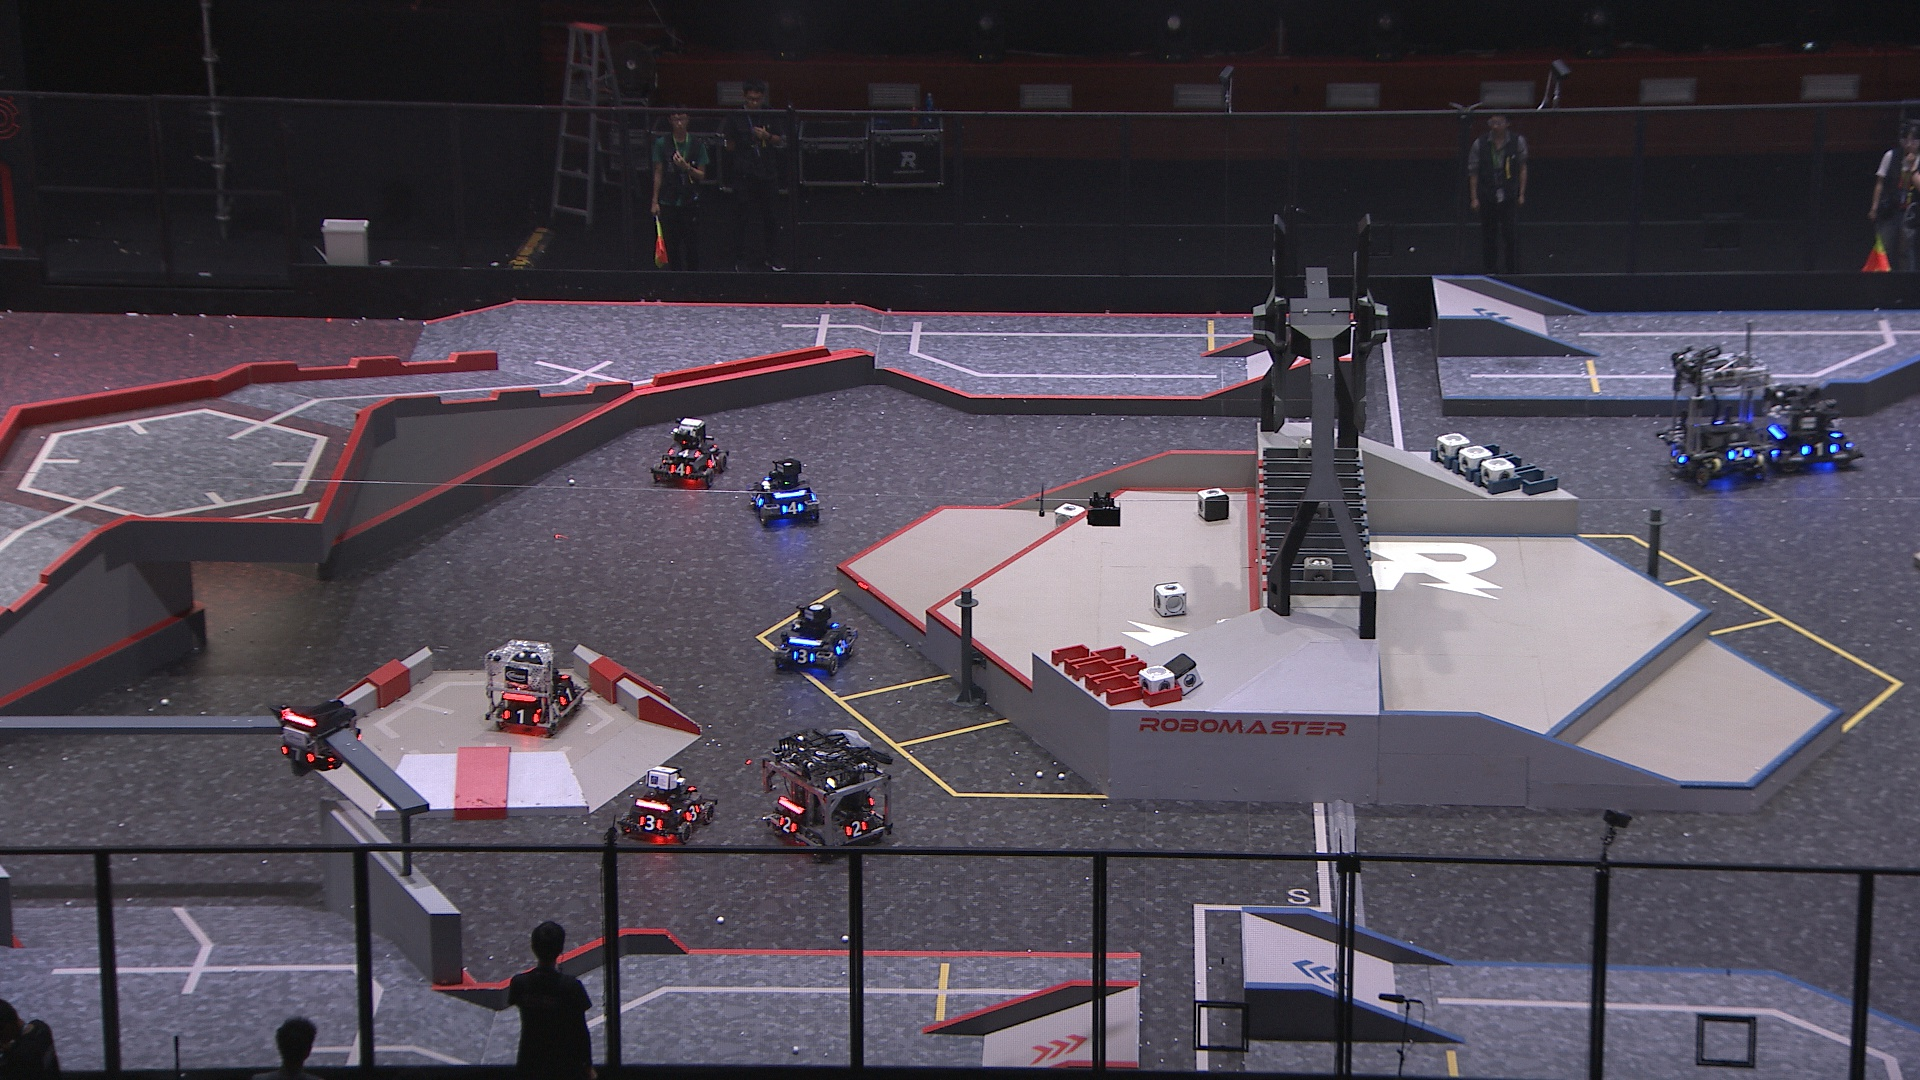armor: (498, 708, 541, 727), (281, 745, 316, 766), (1797, 442, 1840, 458), (666, 446, 702, 460), (1726, 443, 1754, 462), (790, 647, 818, 666), (844, 820, 869, 840), (636, 815, 665, 831), (558, 684, 578, 707), (781, 500, 804, 517), (683, 803, 703, 823), (775, 816, 796, 835), (667, 462, 692, 476), (1669, 447, 1687, 465), (704, 454, 719, 469), (752, 491, 765, 508), (835, 638, 847, 657)
car: (760, 728, 893, 858), (1656, 347, 1776, 488), (1756, 380, 1865, 476), (485, 640, 591, 737), (617, 764, 717, 843), (770, 604, 855, 676), (647, 417, 731, 489), (749, 458, 822, 527)
watcher: (272, 699, 359, 779)
